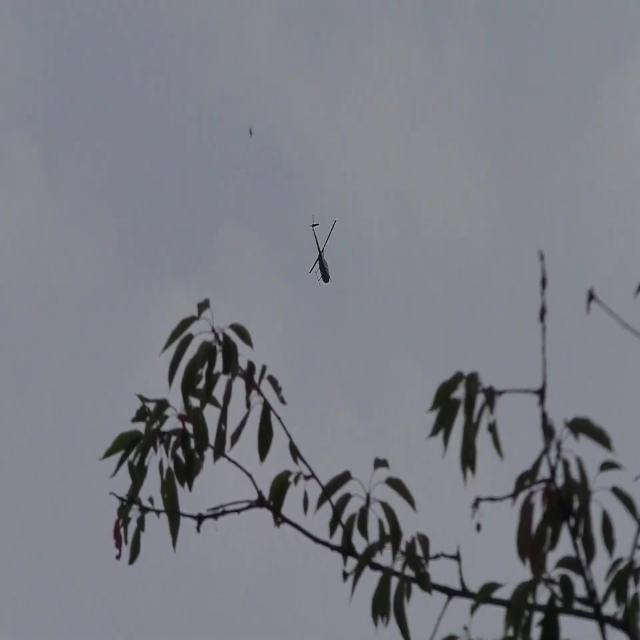CIV_HELO: (310, 215, 332, 286)
